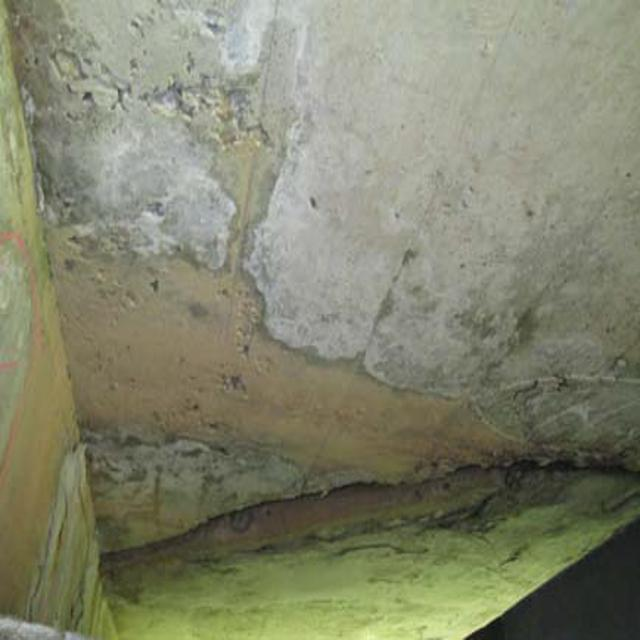leakage: (7, 233, 637, 576)
